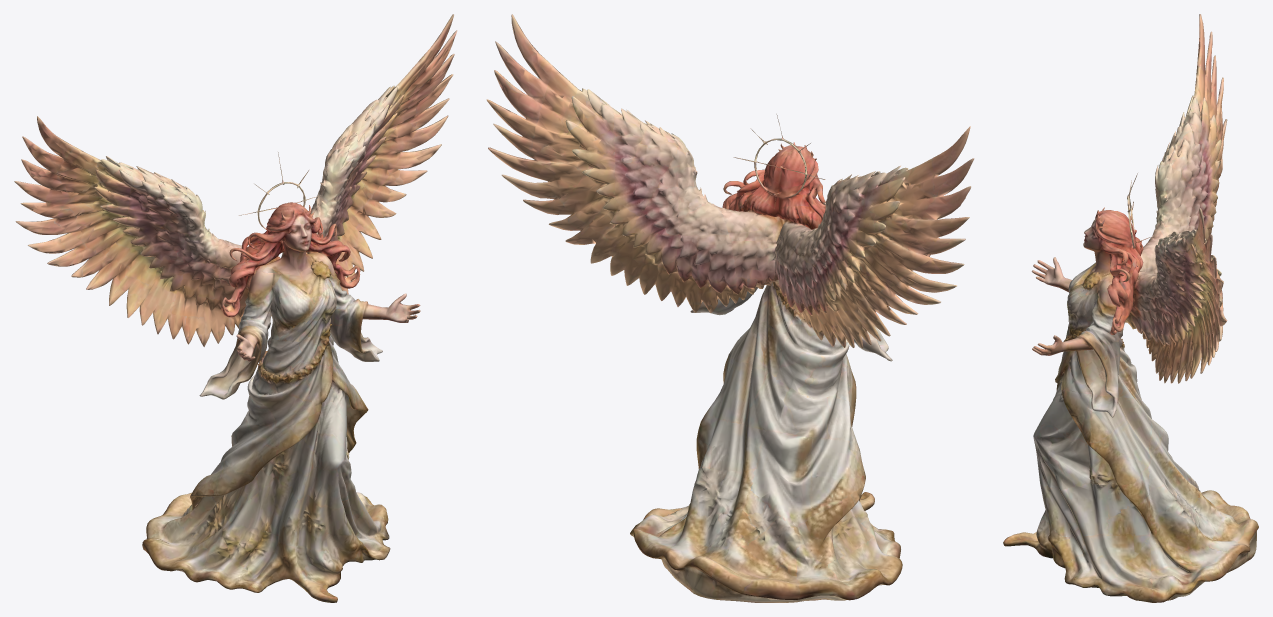
File: mini_dwc10.glb
3 renders of one model, left to right at view 1: azimuth 30°, elevation 25°; view 2: azimuth 150°, elevation 25°; view 3: azimuth 270°, elevation 25°, orthographic. The views are drawn at different scales.
Bounding box in the file's own units: 1.9 × 1.9 × 1.
1 material, 1 textured.
